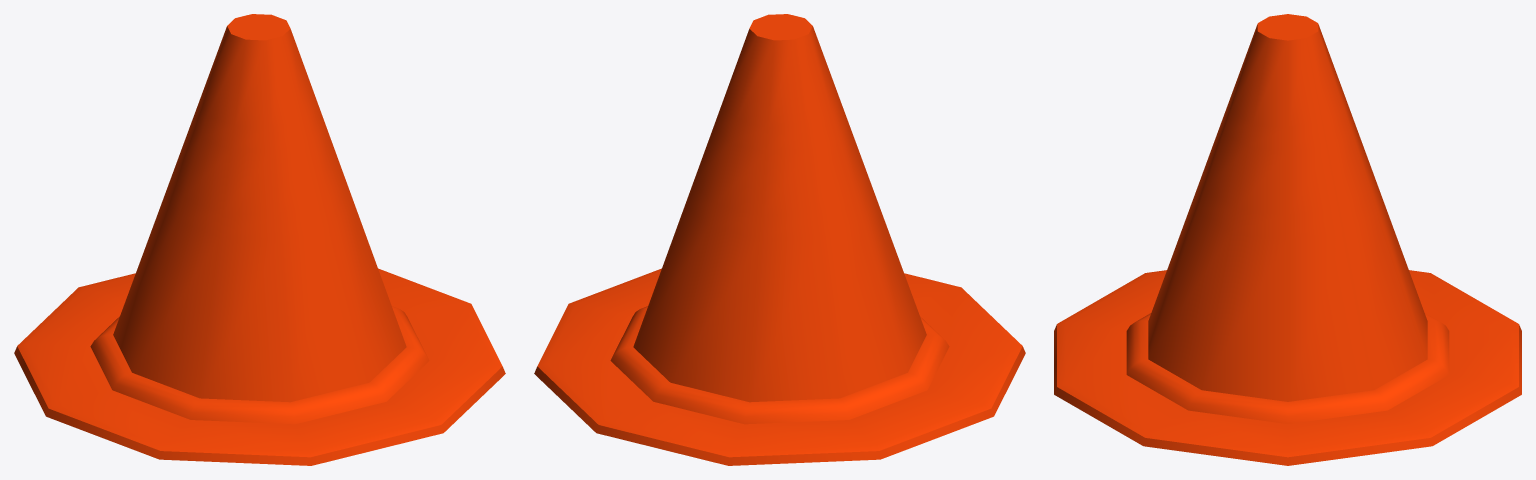
File: Cono.fbx
The picture shows the model from 3 angles, left to right: view 1: azimuth 30°, elevation 25°; view 2: azimuth 150°, elevation 25°; view 3: azimuth 270°, elevation 25°; orthographic projection.
Parts seen in each view (by area): view 1: Cono1_022; view 2: Cono1_022; view 3: Cono1_022.
Boxes of the visible parts, x1,y1,x2,y2 form: Cono1_022: [14, 14, 505, 465]; Cono1_022: [534, 14, 1025, 465]; Cono1_022: [1054, 14, 1521, 465].
Bounding box in the file's own units: 40.35 × 30.4 × 38.38.
